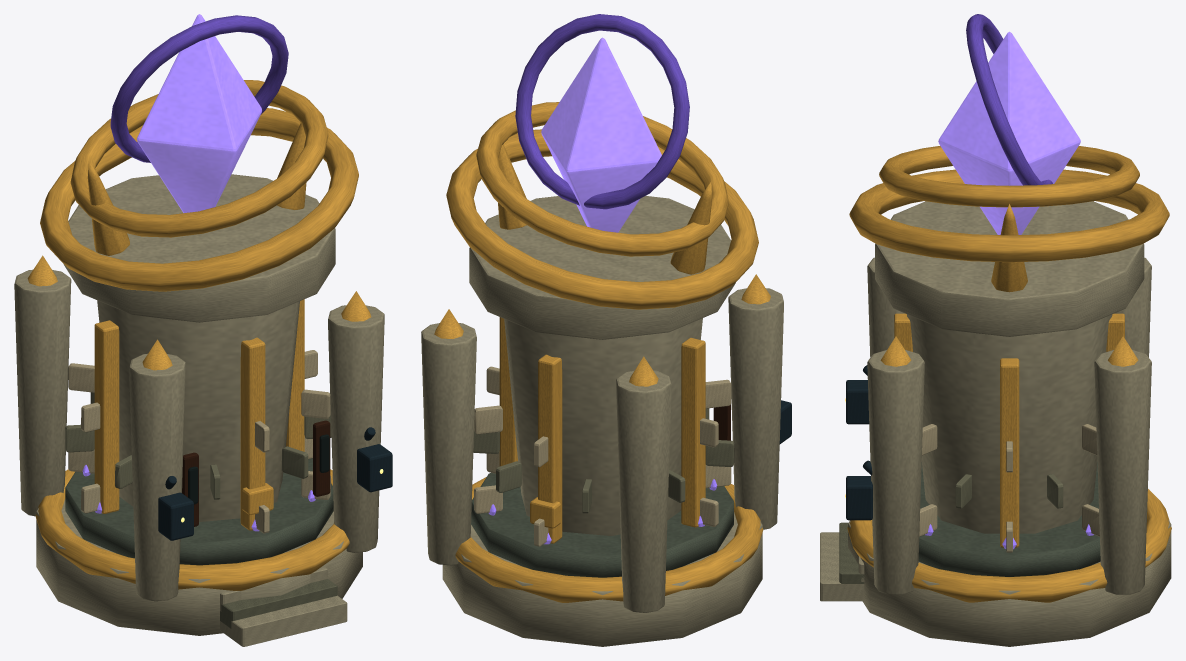
The model's file is tower-arcane-2-base.glb.
The picture shows the model from 3 angles, left to right: view 1: azimuth 30°, elevation 25°; view 2: azimuth 150°, elevation 25°; view 3: azimuth 270°, elevation 25°; orthographic projection. The views are drawn at different scales.
Parts seen in each view (by area): view 1: Foundation, Turret, arcane-L2-base; view 2: Foundation, Turret, arcane-L2-base; view 3: Foundation, Turret, arcane-L2-base.
Boxes of the visible parts, x1,y1,x2,y2 form: Foundation: [14, 255, 392, 646]; Turret: [40, 14, 358, 322]; arcane-L2-base: [36, 458, 362, 635]; Foundation: [421, 274, 791, 612]; Turret: [446, 14, 758, 339]; arcane-L2-base: [442, 472, 762, 646]; Foundation: [820, 257, 1171, 602]; Turret: [849, 14, 1169, 336]; arcane-L2-base: [848, 462, 1171, 646].
Bounding box in the file's own units: 1.69 × 3.18 × 1.83.
13 materials, 13 textured.
